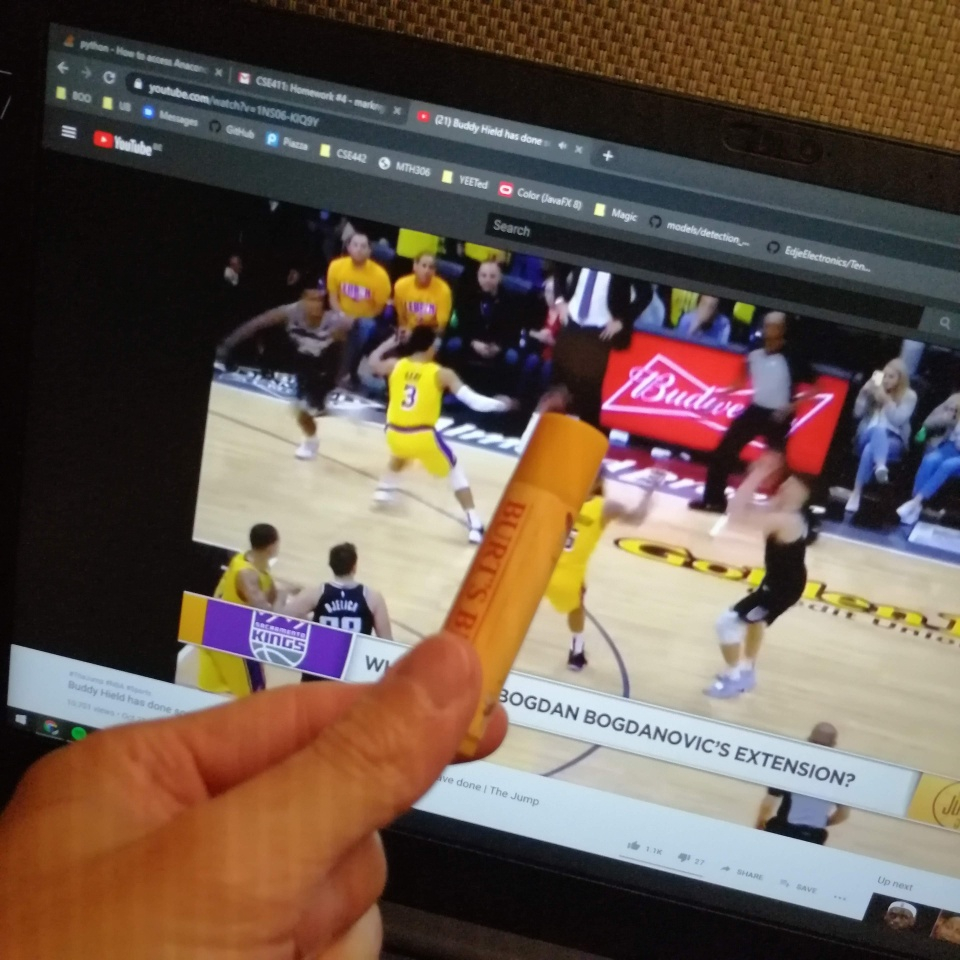chapstick: (438, 410, 608, 768)
